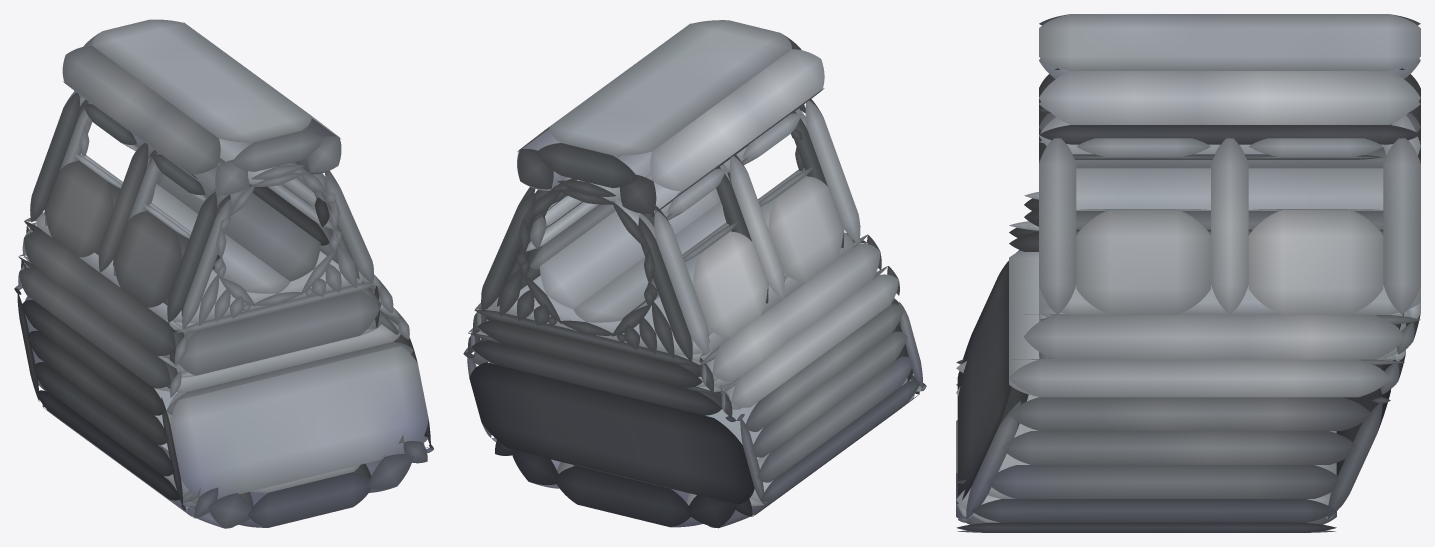
The model's file is deagle_357_muzzle_compensator.fbx.
3 renders of one model, left to right at view 1: azimuth 30°, elevation 25°; view 2: azimuth 150°, elevation 25°; view 3: azimuth 270°, elevation 25°, orthographic. The views are drawn at different scales.
Visible parts, largest first — view 1: cube_47, cube_39, cube_46, cube_48, cube_24, cube_22, octagon_31, cube_23, cube_17, cube_19, cube_41, cube_16 (+25 smaller); view 2: cube_25, cube_39, cube_46, cube_22, octagon_31, cube_23, cube_17, cube_19, cube_32, cube_33, cube_41, cube_34 (+26 smaller); view 3: cube_40, cube_39, cube_36, cube_24, cube_35, cube_9, cube_15, cube_27, octagon_30, cube_28, cube_47, cube_29 (+14 smaller).
Part boxes in pixels (left/top/right/bottom): cube_47: left=161, top=338, right=430, bottom=506; cube_39: left=83, top=19, right=323, bottom=171; cube_46: left=62, top=46, right=247, bottom=197; cube_48: left=169, top=286, right=380, bottom=377; cube_24: left=22, top=300, right=413, bottom=415; cube_22: left=22, top=222, right=187, bottom=366; octagon_31: left=157, top=172, right=336, bottom=294; cube_23: left=18, top=261, right=181, bottom=397; cube_17: left=114, top=203, right=190, bottom=307; cube_19: left=45, top=153, right=121, bottom=257; cube_41: left=239, top=463, right=371, bottom=527; cube_16: left=167, top=188, right=231, bottom=329; cube_25: left=467, top=351, right=764, bottom=505; cube_39: left=536, top=20, right=801, bottom=188; cube_46: left=620, top=49, right=824, bottom=216; cube_22: left=699, top=234, right=881, bottom=392; octagon_31: left=522, top=188, right=720, bottom=323; cube_23: left=719, top=266, right=899, bottom=418; cube_17: left=759, top=167, right=843, bottom=282; cube_19: left=683, top=222, right=767, bottom=337; cube_32: left=471, top=329, right=729, bottom=415; cube_33: left=477, top=309, right=707, bottom=387; cube_41: left=554, top=462, right=702, bottom=527; cube_34: left=474, top=232, right=866, bottom=365; cube_40: left=1039, top=71, right=1420, bottom=144; cube_39: left=1039, top=14, right=1420, bottom=70; cube_36: left=1024, top=314, right=1405, bottom=359; cube_24: left=1009, top=250, right=1371, bottom=430; cube_35: left=1009, top=359, right=1390, bottom=397; cube_9: left=1248, top=209, right=1383, bottom=314; cube_15: left=1076, top=209, right=1210, bottom=314; cube_27: left=1002, top=431, right=1356, bottom=464; octagon_30: left=1076, top=168, right=1383, bottom=210; cube_28: left=987, top=465, right=1341, bottom=498; cube_47: left=957, top=250, right=1028, bottom=519; cube_29: left=972, top=394, right=1336, bottom=522.
Size of the model in its own units: 18.75 by 25.81 by 24.24.
1 material, 1 textured.
